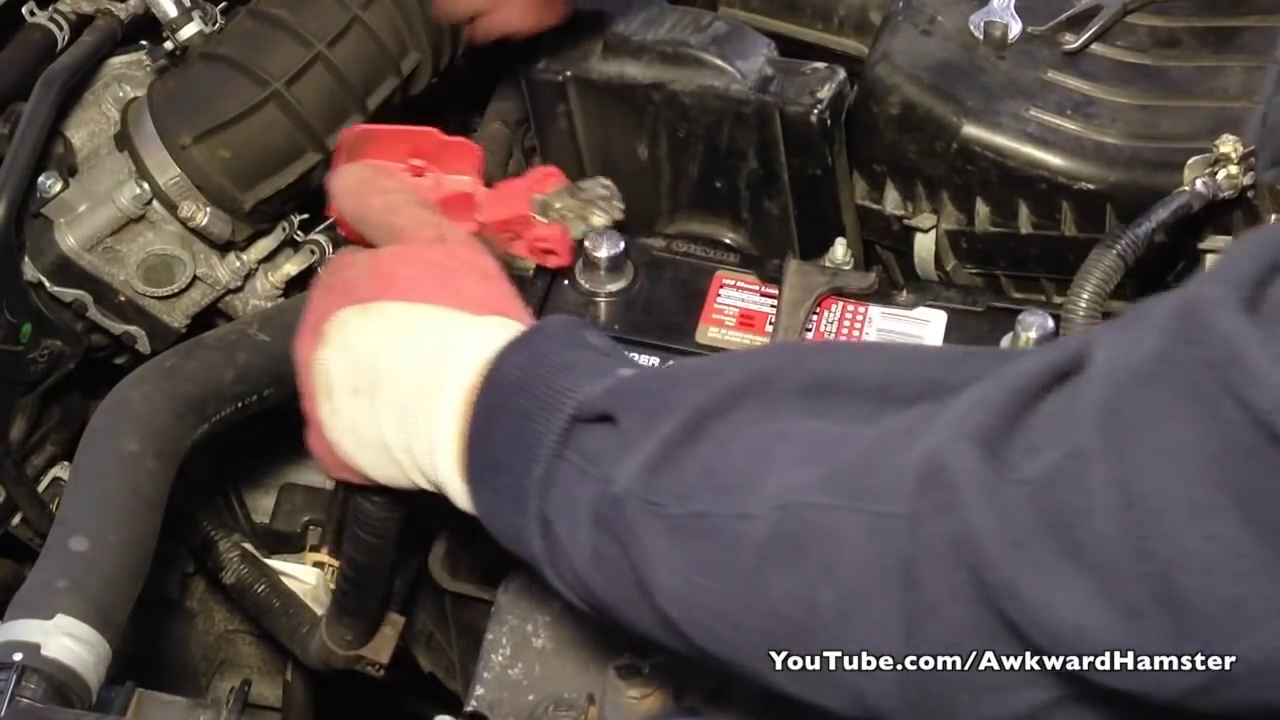battery: (534, 225, 1088, 449)
neg_disconnected: (963, 279, 1082, 389)
pos_disconnected: (360, 131, 636, 292)
